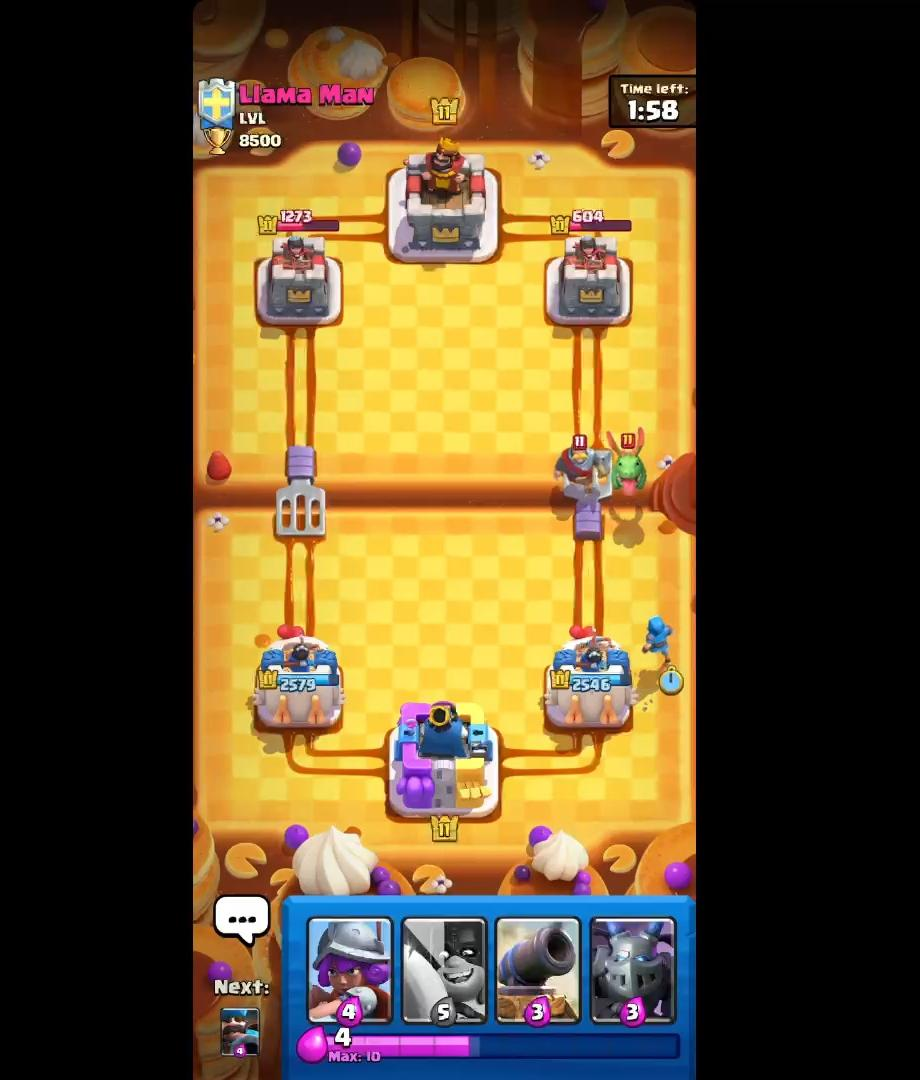Baby Dragon: (602, 424, 656, 500)
Knight: (552, 428, 607, 499)
